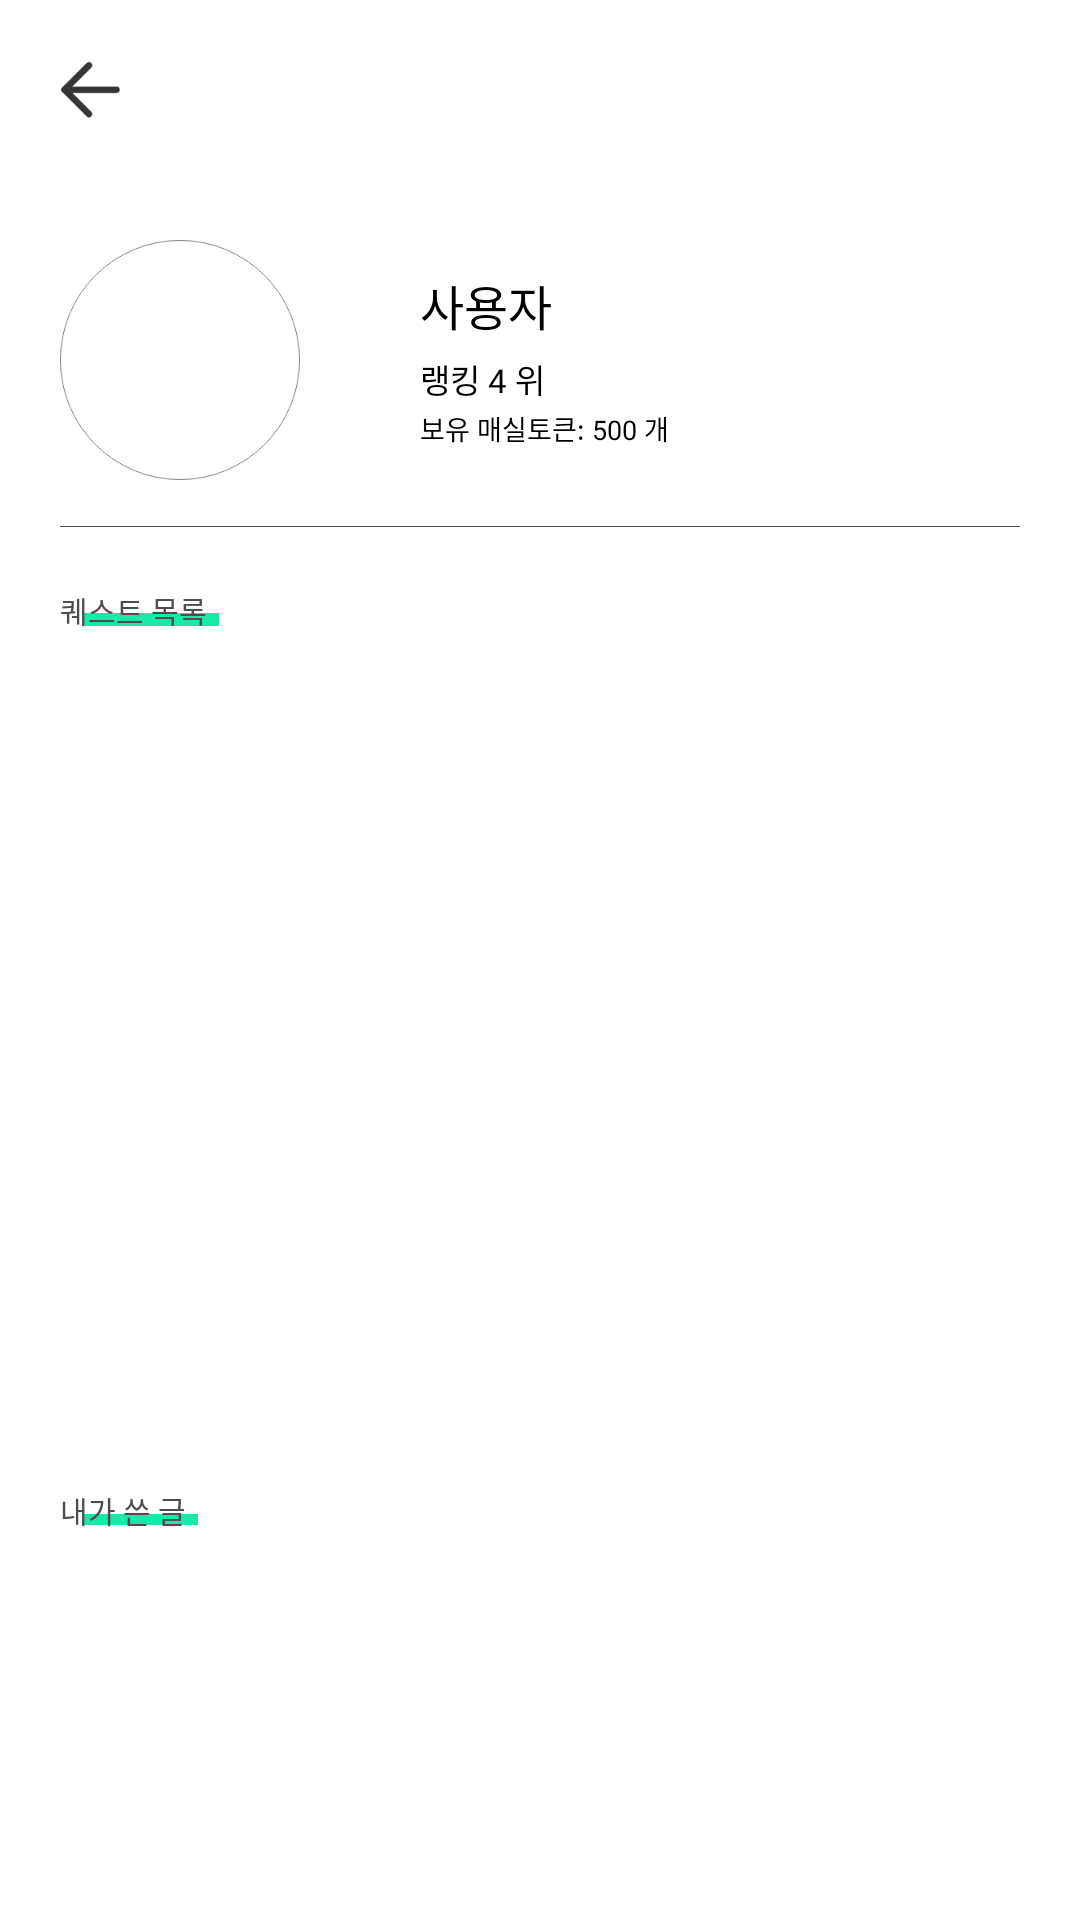

Screen size 1080x1920. Icon name, then its center in pixels as (x,y):
backbutton: (90,89)
